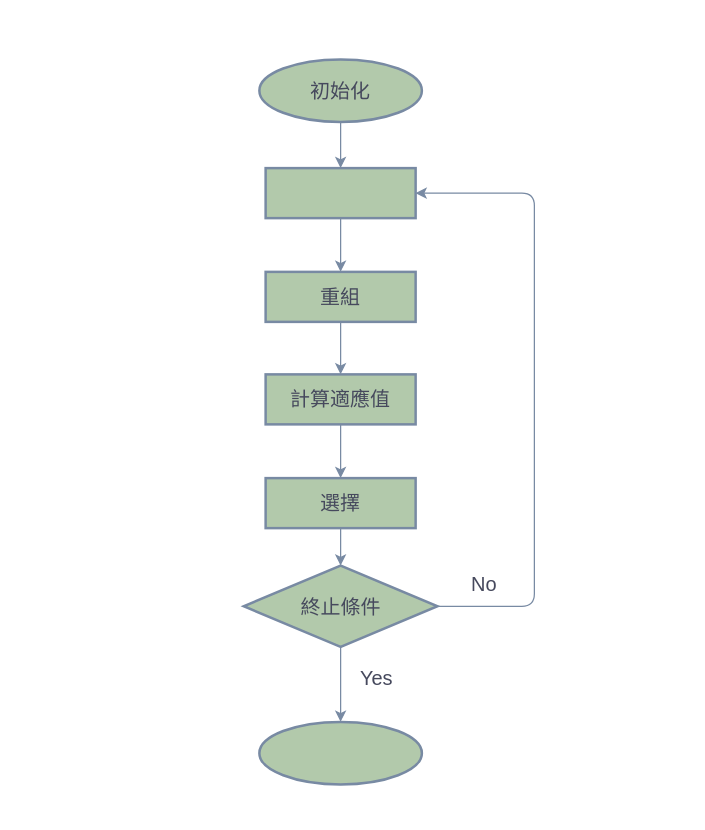
Image size: 705x830. Some labels were removed from this diagram. Here are the shapes that lost their labels. From the top down, the centre of each, then its label:
At pixel 340 192: "突變".
At pixel 340 752: "結束".
